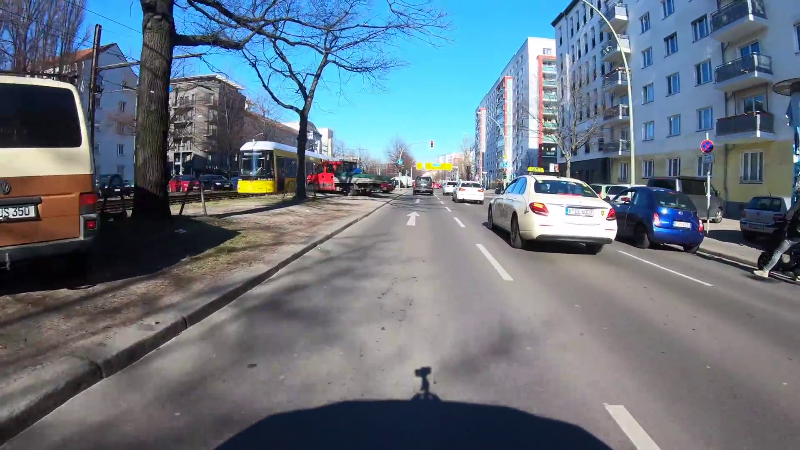Plate: (1, 199, 38, 219), (565, 207, 594, 217)
